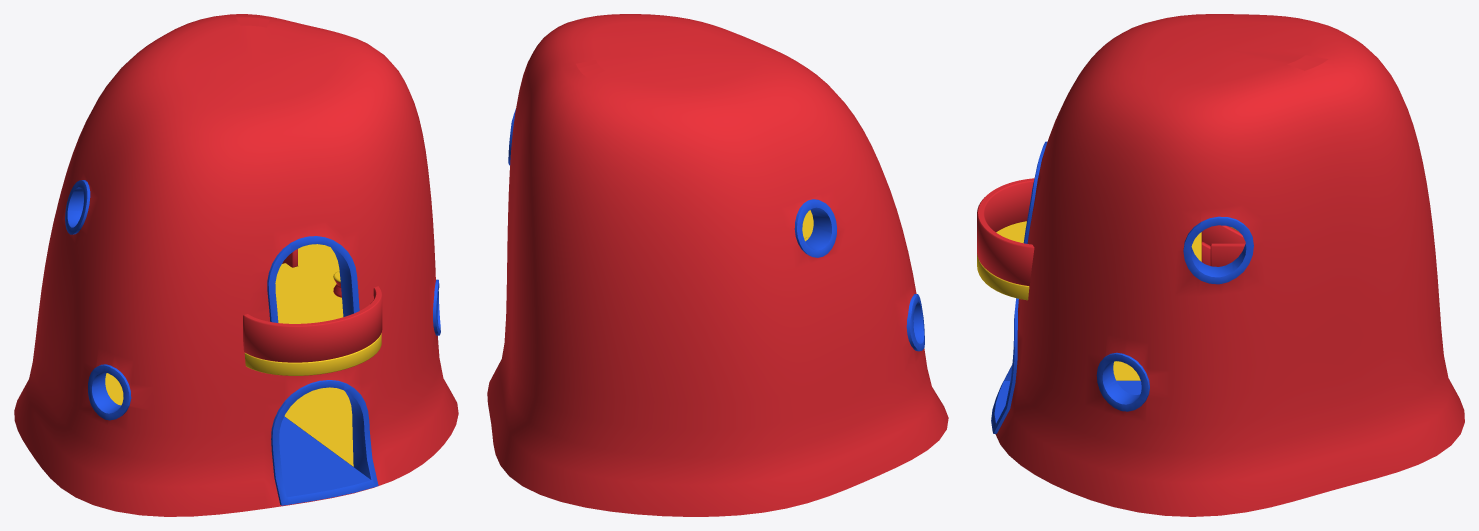
File: adobe_14_leaning_balcony.glb
3 renders of one model, left to right at view 1: azimuth 30°, elevation 25°; view 2: azimuth 150°, elevation 25°; view 3: azimuth 270°, elevation 25°, orthographic. The views are drawn at different scales.
Parts seen in each view (by area): view 1: 14 • Leaning Balcony House, Balcony parapet, Upper floor • 14, Rounded upper balcony; view 2: 14 • Leaning Balcony House; view 3: 14 • Leaning Balcony House, Balcony parapet, Rounded upper balcony, Village return stair side guard.002, Upper stairwell guard.003.
Boxes of the visible parts, <box> form: 14 • Leaning Balcony House: <box>14,14,458,516</box>; Balcony parapet: <box>243,286,382,362</box>; Upper floor • 14: <box>275,244,342,323</box>; Rounded upper balcony: <box>244,308,381,375</box>; 14 • Leaning Balcony House: <box>487,14,948,516</box>; 14 • Leaning Balcony House: <box>991,14,1464,516</box>; Balcony parapet: <box>977,178,1034,285</box>; Rounded upper balcony: <box>977,221,1029,300</box>; Village return stair side guard.002: <box>1201,225,1245,245</box>; Upper stairwell guard.003: <box>1210,243,1245,266</box>.
Size of the model in its own units: 9.21 by 7.99 by 9.15.
